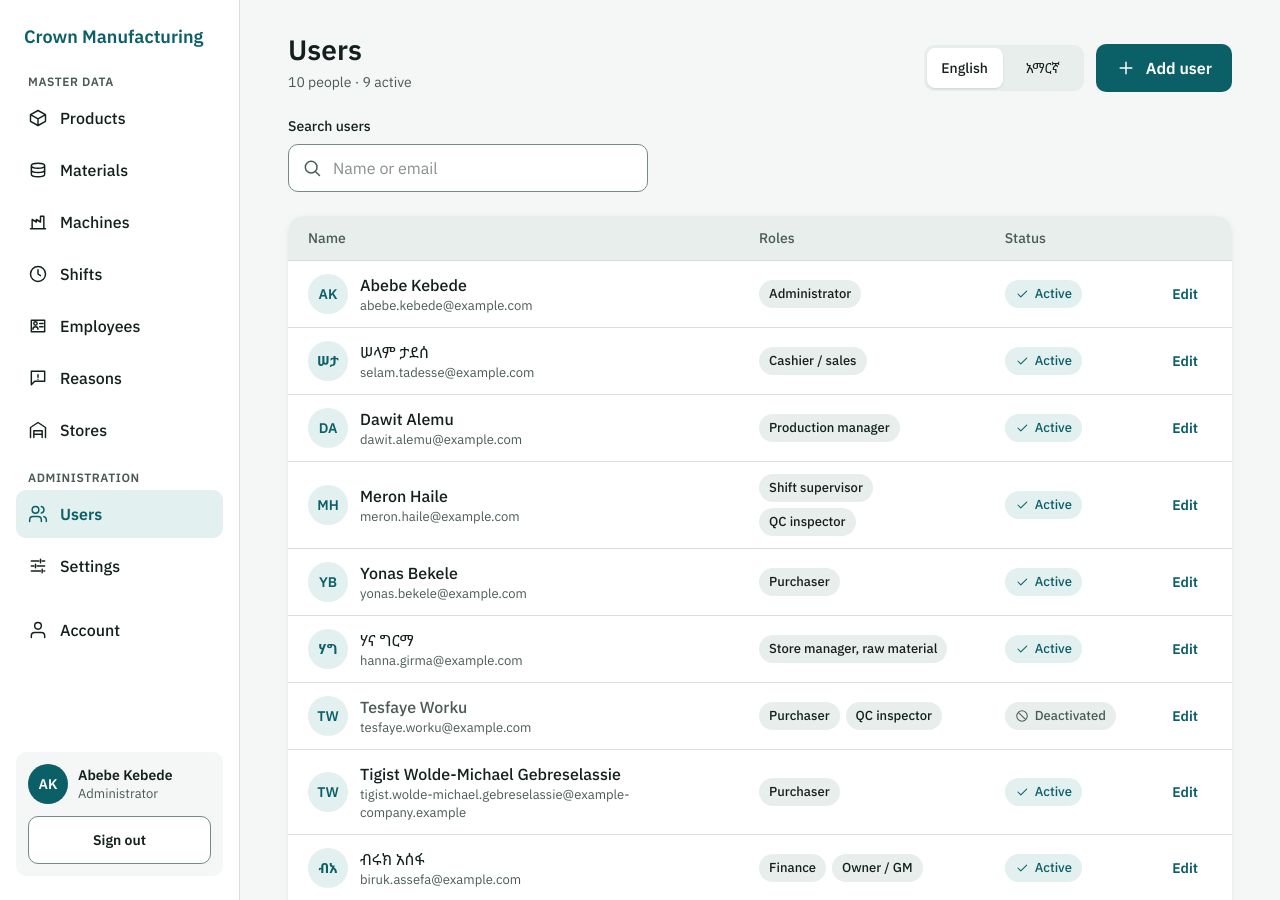
Test case: editing a user › deactivating needs a confirmation, then shows the status and a Reactivate button
Click the button with aria-label "Edit Yonas Bekele" at (1185, 582), box [1158,560,1212,604]
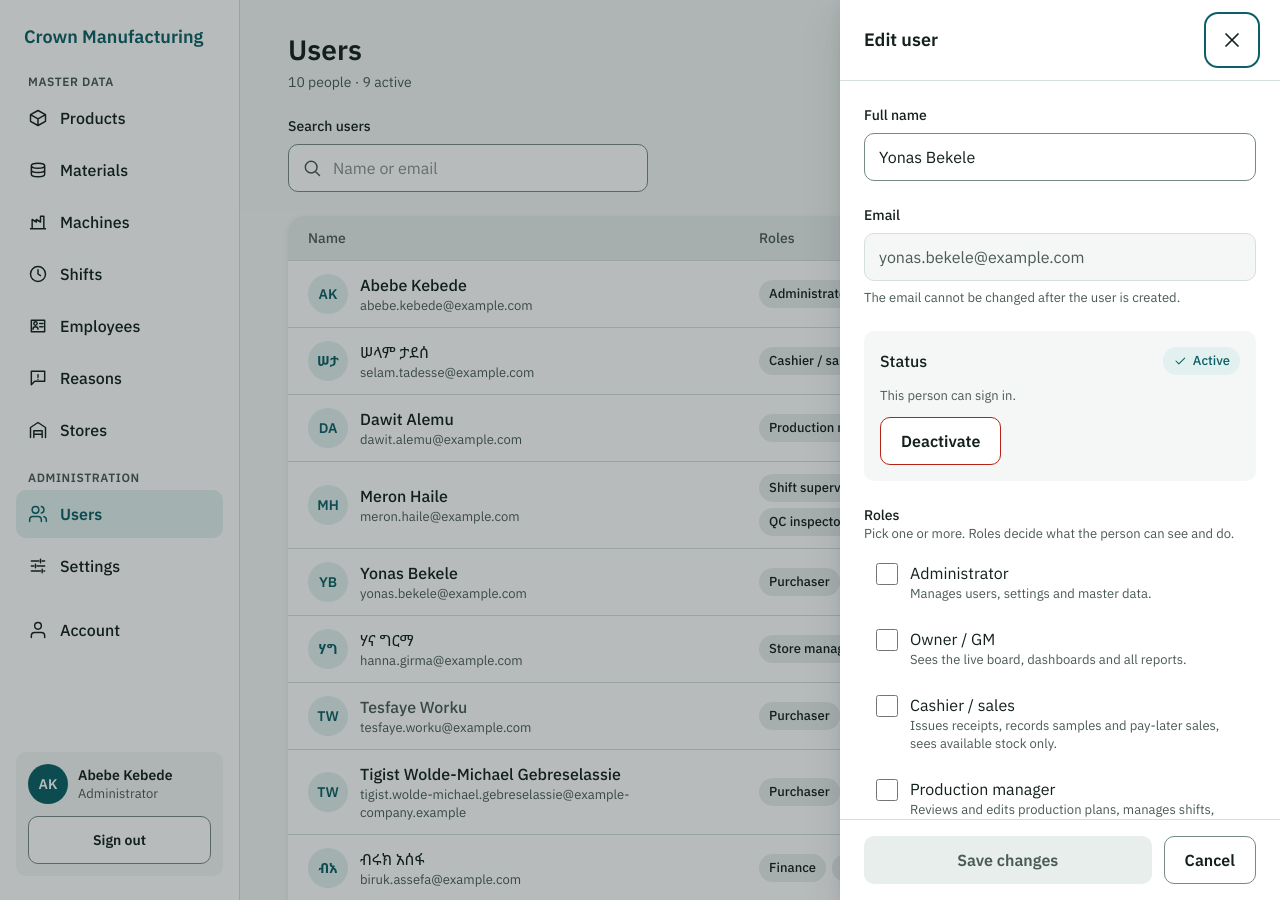
Click the button "Deactivate" at (941, 441), box [880,417,1002,465]
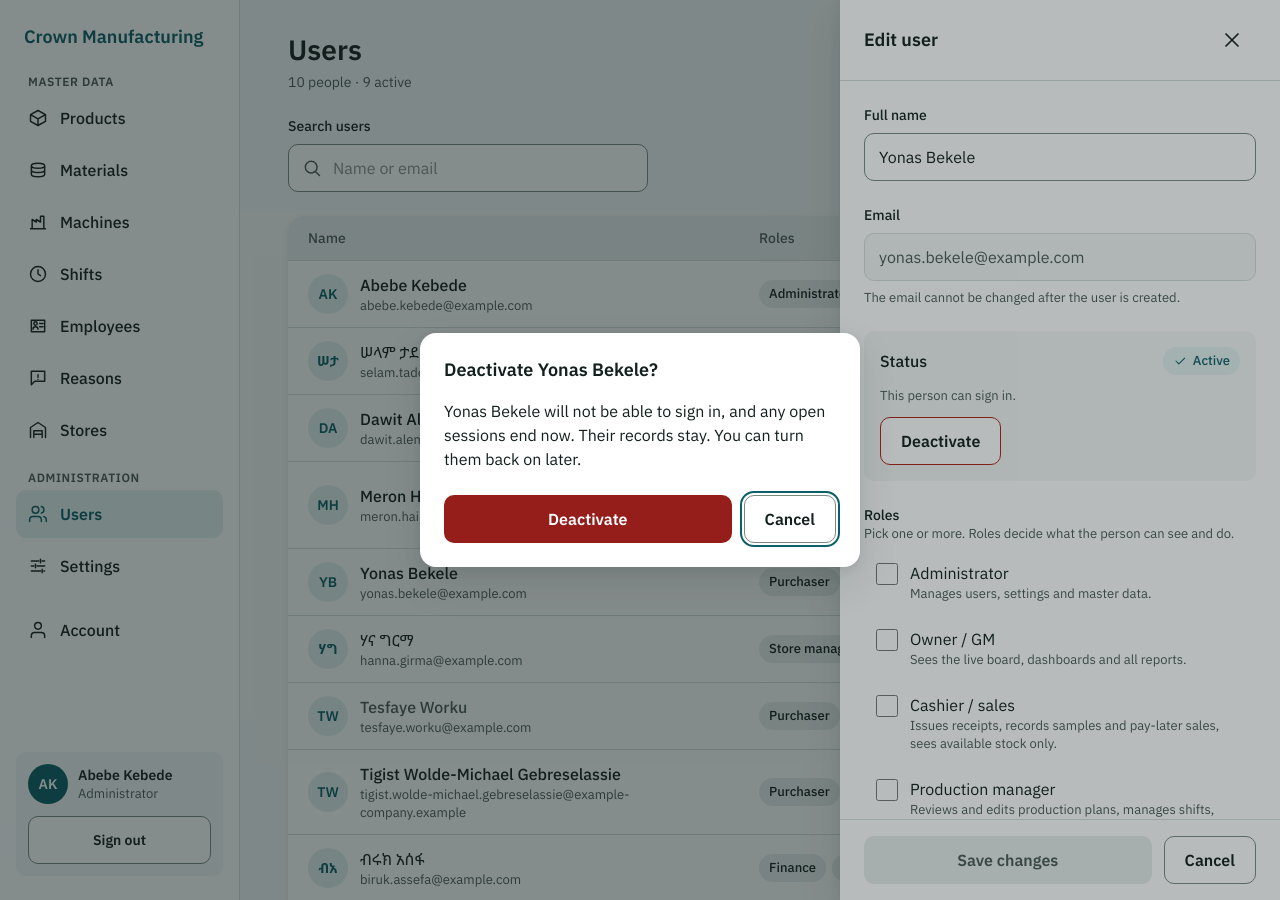
Check: the heading "Deactivate Yonas Bekele?" is shown, box [444,358,658,381]
Check: the text "any open sessions end now" is shown, box [444,401,825,469]
Click the button "Deactivate" at (588, 519), box [444,495,732,543]
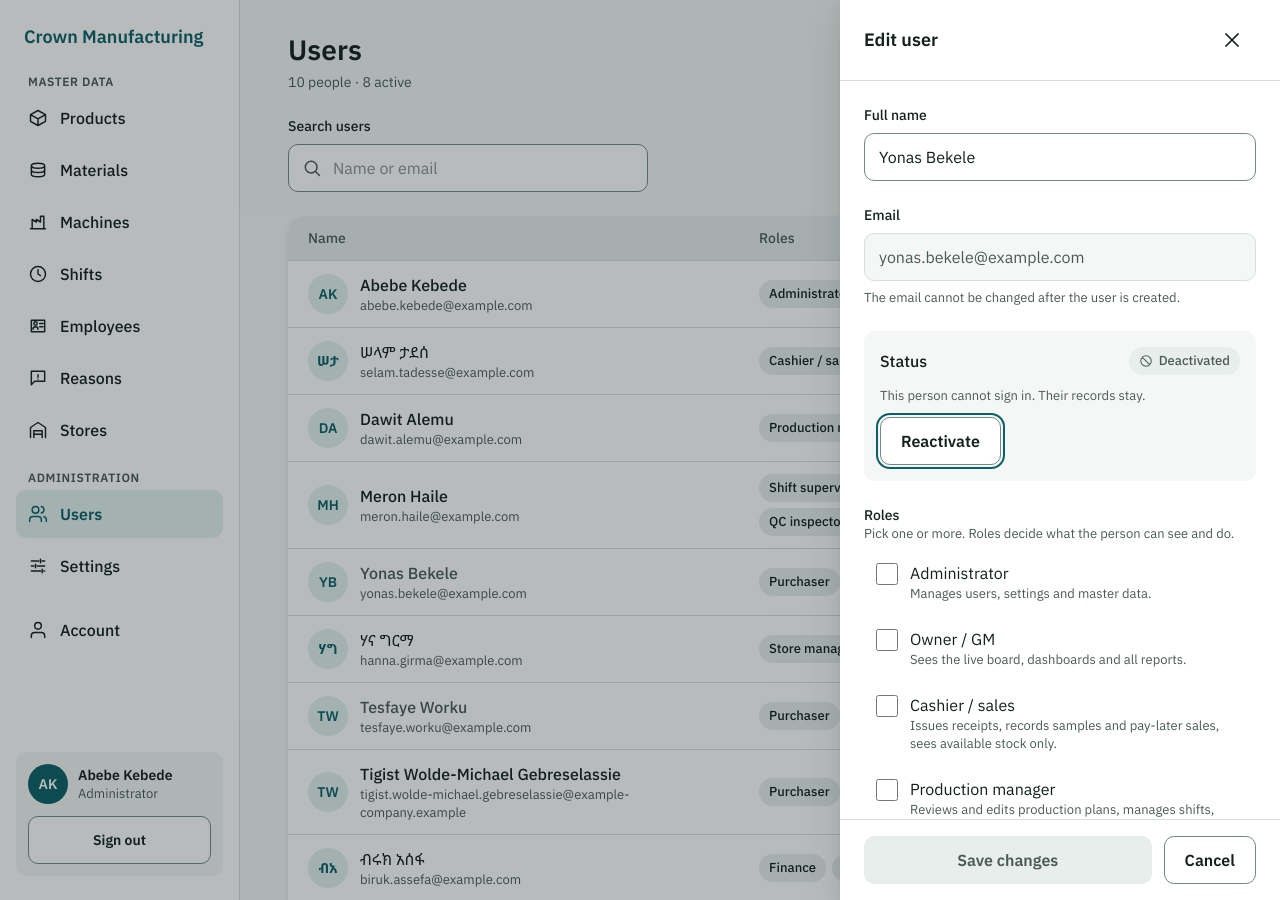
Check: the button "Reactivate" is shown, box [880,417,1001,465]
